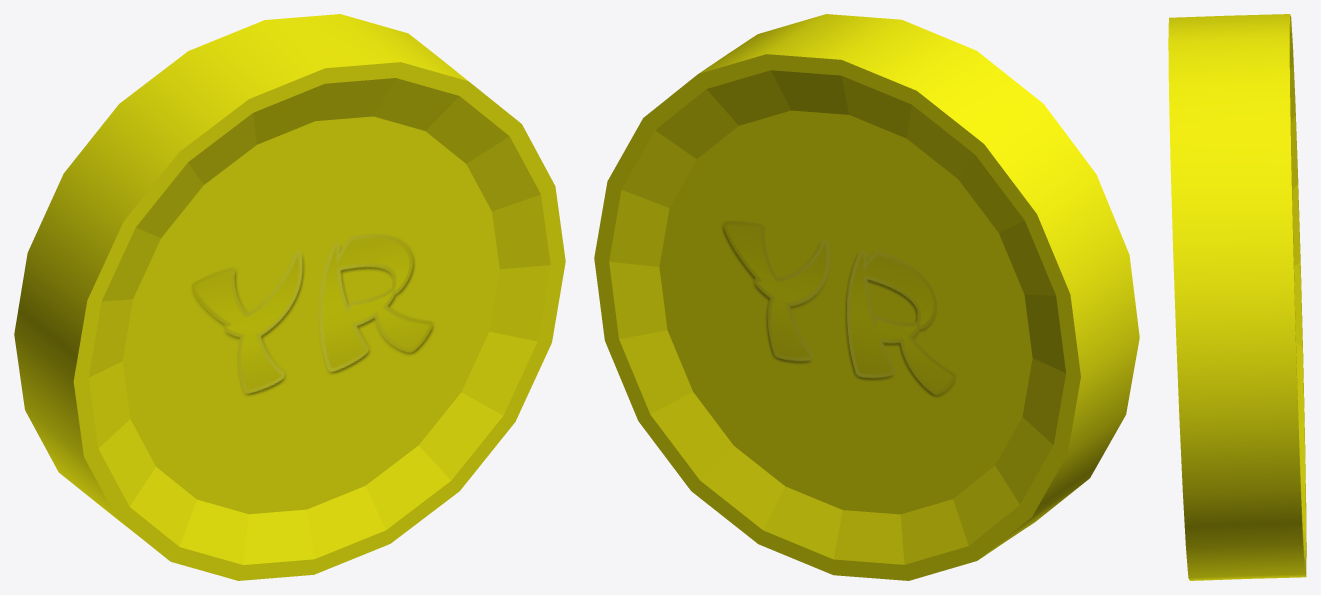
The model's file is newCoin.fbx.
The picture shows the model from 3 angles, left to right: view 1: azimuth 30°, elevation 25°; view 2: azimuth 150°, elevation 25°; view 3: azimuth 270°, elevation 25°; orthographic projection.
Parts seen in each view (by area): view 1: pCylinder3; view 2: pCylinder3; view 3: pCylinder3.
Part boxes in pixels (x1,y1,x2,y2): pCylinder3: (14, 14, 565, 580); pCylinder3: (594, 14, 1139, 580); pCylinder3: (1168, 14, 1306, 580).
Bounding box in the file's own units: 2 × 2.01 × 0.4867.
Materials: 1 (1 with a texture image).
